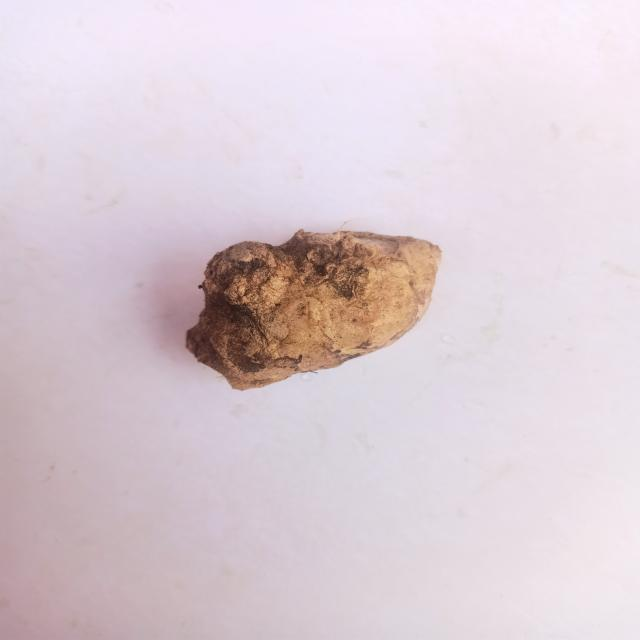Ginger: (162, 215, 458, 402)
